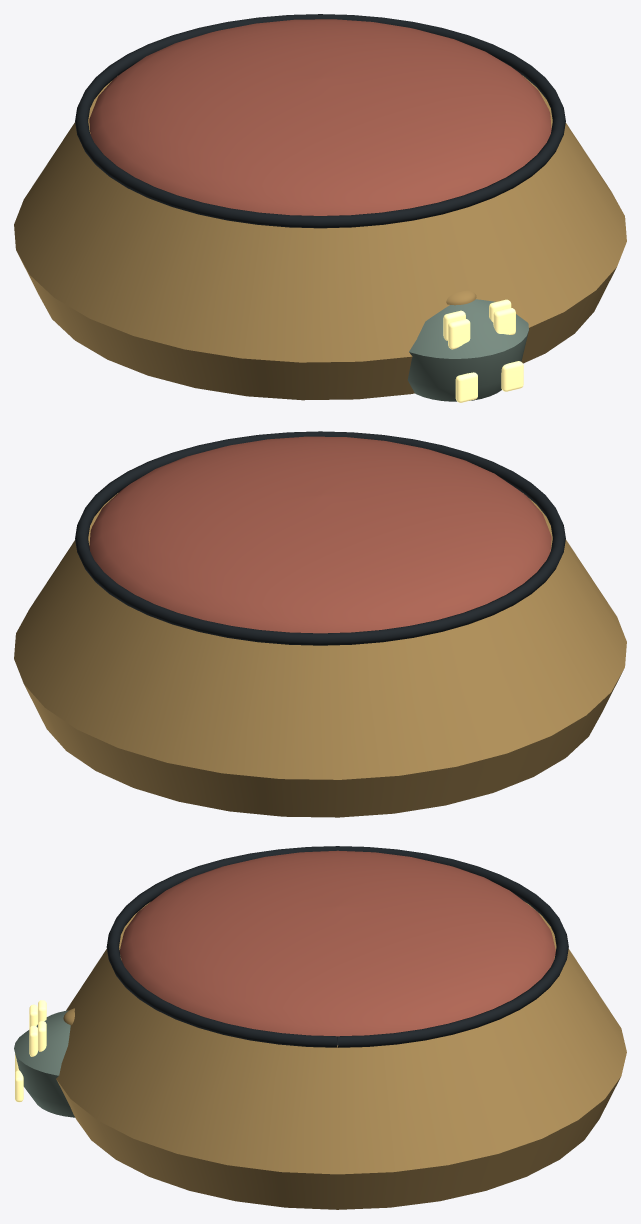
The picture shows the model from 3 angles, top to bottom: view 1: azimuth 30°, elevation 25°; view 2: azimuth 150°, elevation 25°; view 3: azimuth 270°, elevation 25°; orthographic projection. The views are drawn at different scales.
Parts seen in each view (by area): view 1: Silo flared bunker, Silo armoured lid, Silo lid seam, Bulb shaped chamber, Inset service window, Inset service window.001, Inset service window.002, Inset service window.003; view 2: Silo flared bunker, Silo armoured lid, Silo lid seam; view 3: Silo flared bunker, Silo armoured lid, Silo lid seam, Bulb shaped chamber.
Boxes of the visible parts, left/top/right/bottom form: Silo flared bunker: left=14, top=75, right=626, bottom=400; Silo armoured lid: left=89, top=19, right=551, bottom=215; Silo lid seam: left=75, top=14, right=565, bottom=228; Bulb shaped chamber: left=407, top=299, right=528, bottom=401; Inset service window: left=455, top=372, right=477, bottom=402; Inset service window.001: left=501, top=361, right=523, bottom=391; Inset service window.002: left=448, top=319, right=470, bottom=349; Inset service window.003: left=493, top=308, right=515, bottom=334; Silo flared bunker: left=14, top=493, right=626, bottom=817; Silo armoured lid: left=89, top=436, right=551, bottom=633; Silo lid seam: left=75, top=431, right=565, bottom=645; Silo flared bunker: left=56, top=902, right=626, bottom=1209; Silo armoured lid: left=119, top=850, right=555, bottom=1036; Silo lid seam: left=106, top=846, right=568, bottom=1047; Bulb shaped chamber: left=14, top=1010, right=74, bottom=1117.
Size of the model in its own units: 2.34 by 0.85 by 2.48.
